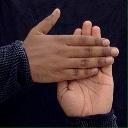H: (24, 9, 113, 117)
